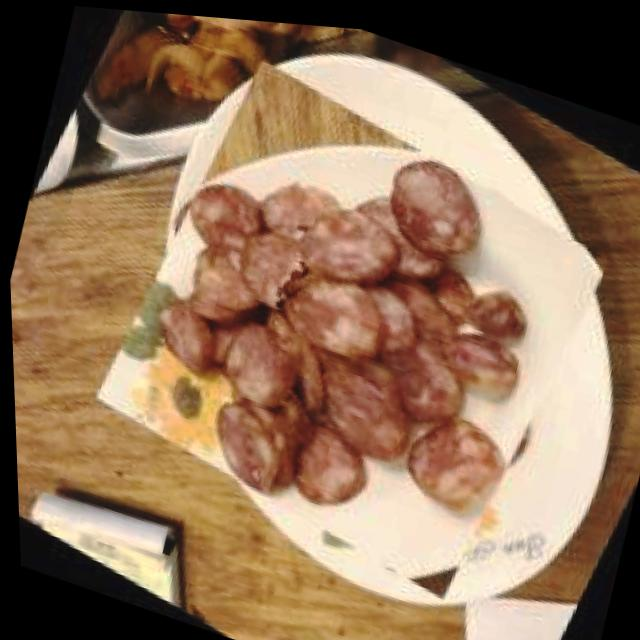chinese_sausage: (119, 77, 573, 572)
